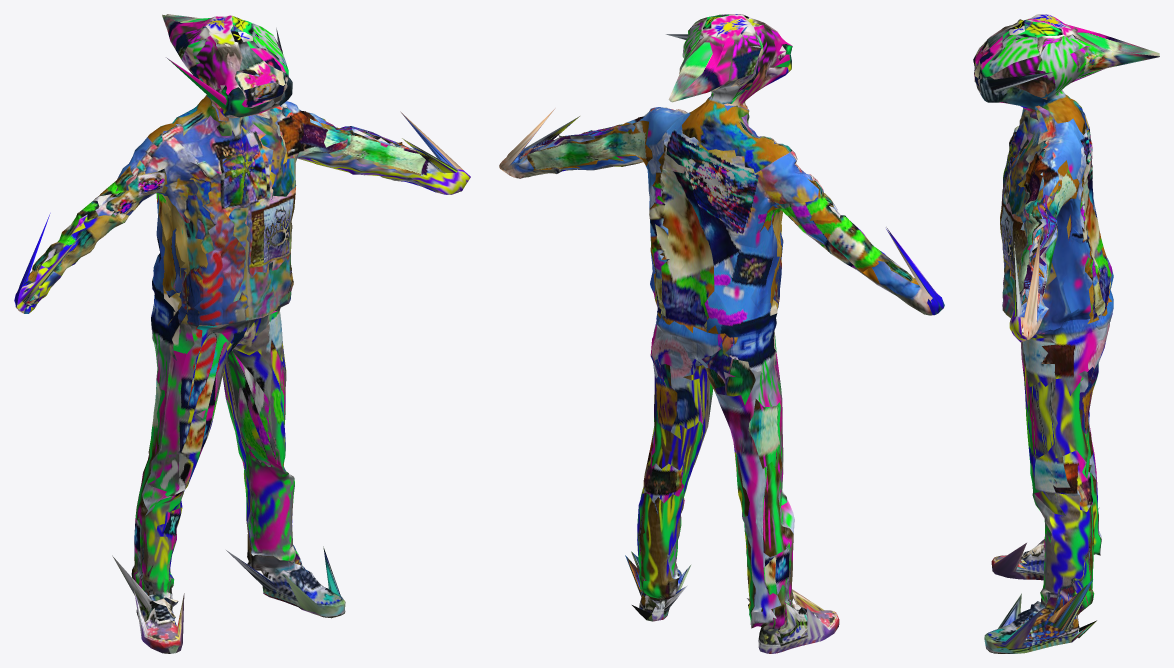
Rendered from CrabMing.obj.
3 views of the same model, side by side, from view 1: azimuth 30°, elevation 25°; view 2: azimuth 150°, elevation 25°; view 3: azimuth 270°, elevation 25° (orthographic). The views are drawn at different scales.
Parts seen in each view (by area): view 1: node_id4; view 2: node_id4; view 3: node_id4.
Boxes of the visible parts, left/top/right/bottom form: node_id4: left=14, top=14, right=470, bottom=653; node_id4: left=499, top=14, right=944, bottom=653; node_id4: left=973, top=14, right=1159, bottom=653.
Size of the model in its own units: 0.1608 by 0.2053 by 0.0591.
1 material, 1 textured.
